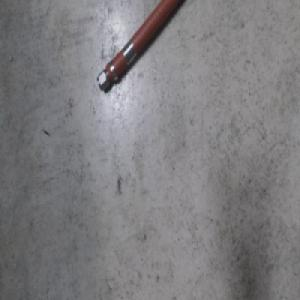Hose: (96, 0, 187, 95)
